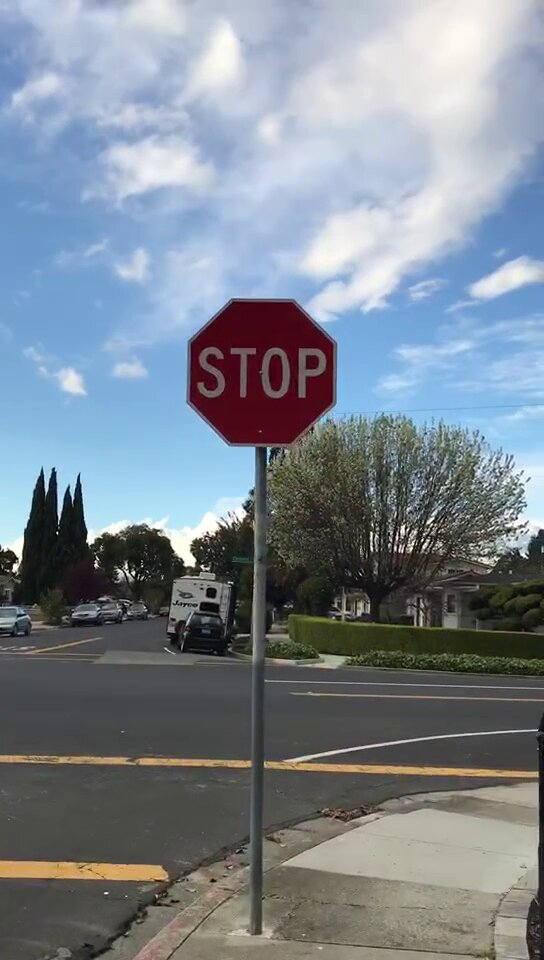stop_sign: (192, 302, 339, 443)
